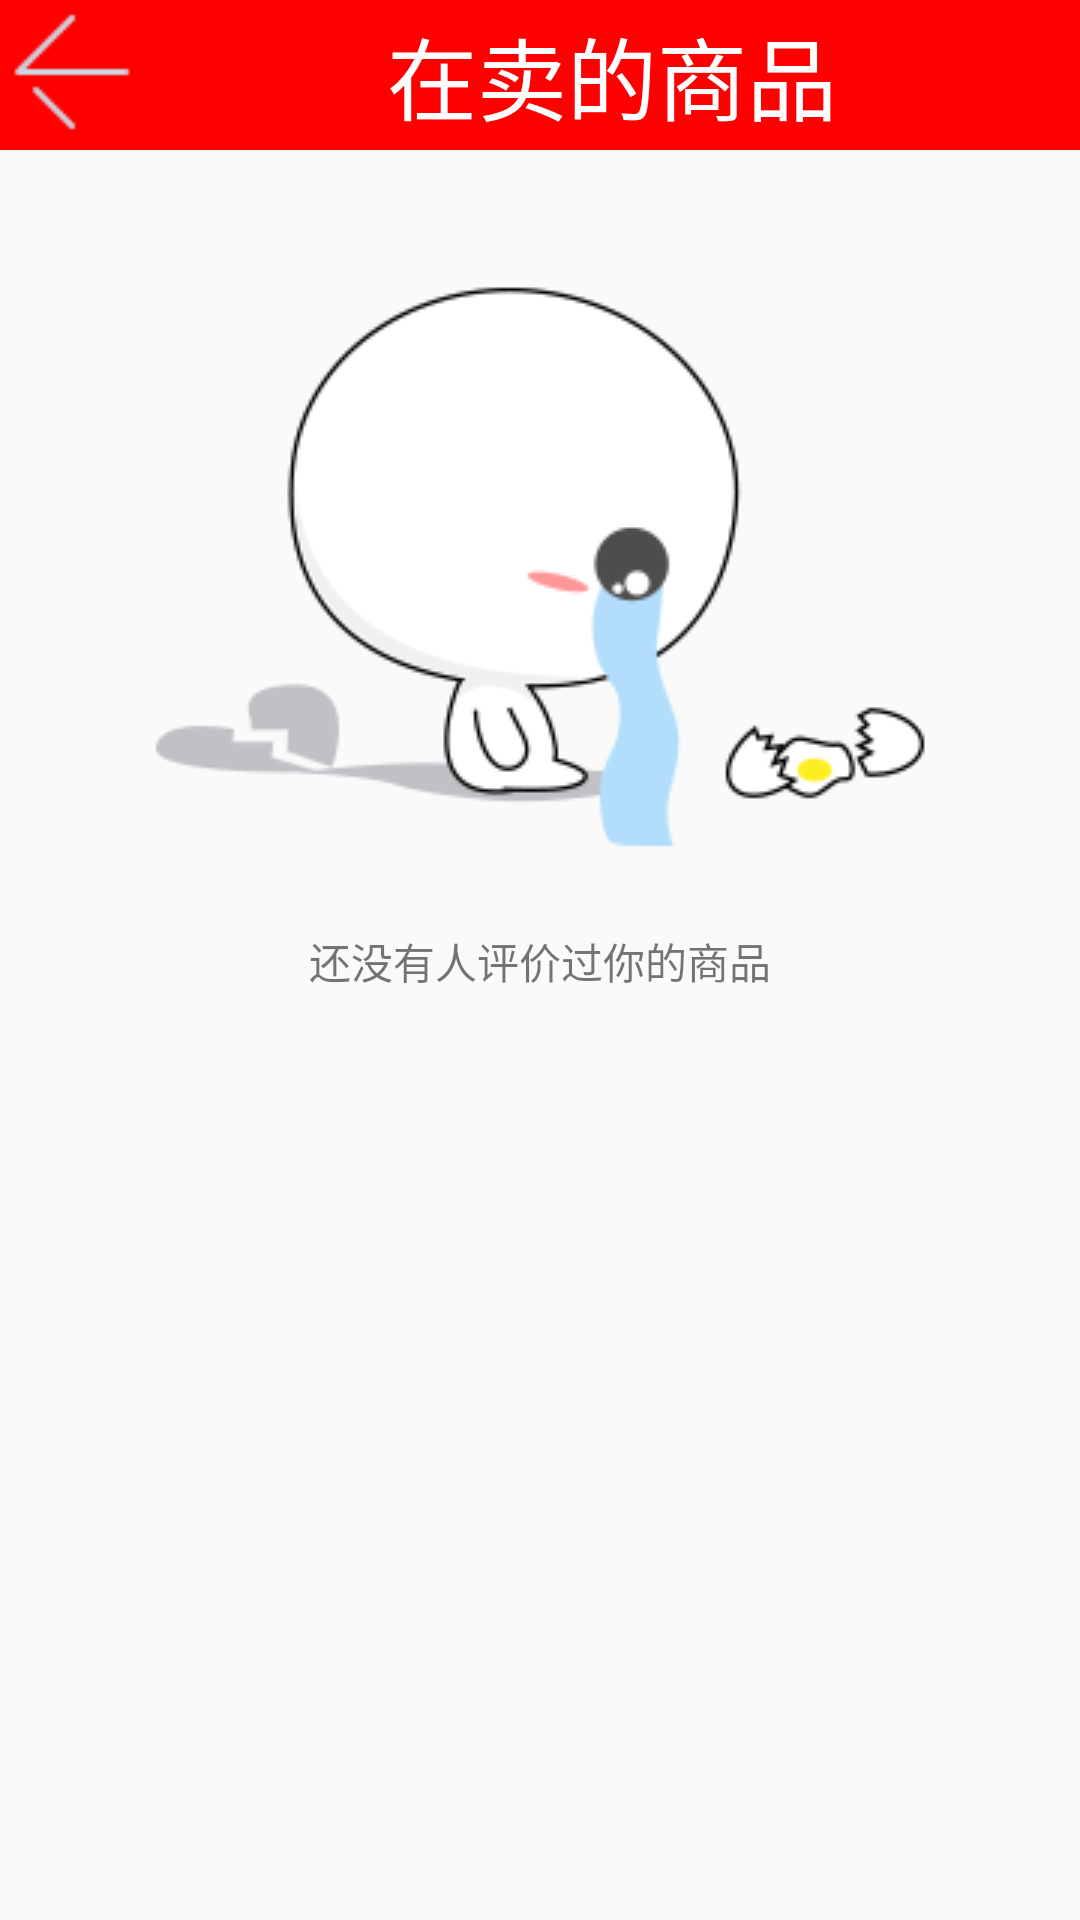

Screen size 1080x1920. Icon name, then its center in pixels as (x,y):
back on: (72,72)
